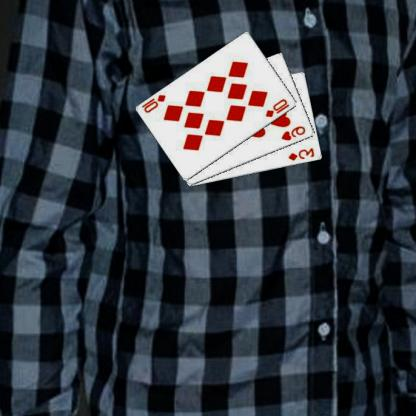10D: (141, 92, 169, 114), (265, 97, 292, 119)
3D: (287, 145, 318, 162)
9H: (280, 124, 308, 142)
